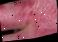plaque psoriasis: (19, 0, 58, 40), (0, 0, 32, 29), (2, 30, 30, 42)
